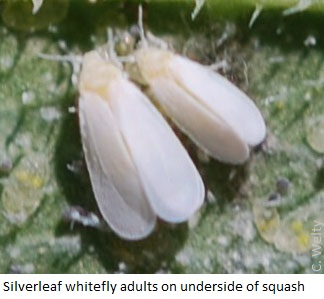Tobacco Whitefly: (70, 45, 185, 255), (134, 23, 274, 175)
